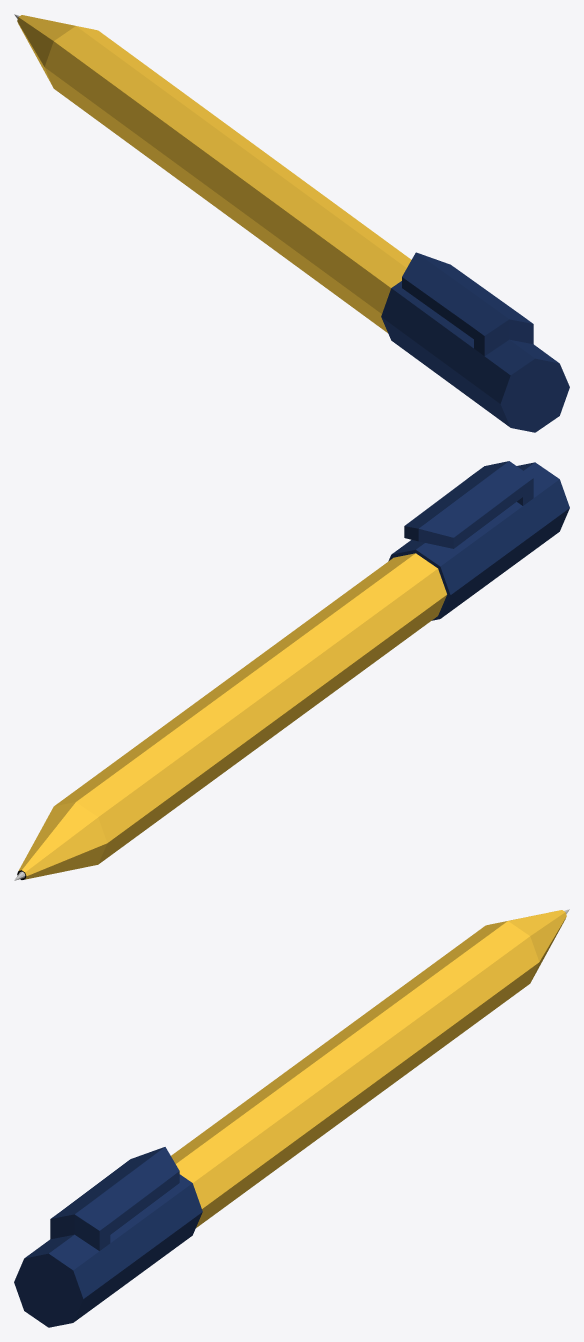
The model's file is SM_Pen_001.fbx.
3 renders of one model, top to bottom at view 1: azimuth 30°, elevation 25°; view 2: azimuth 150°, elevation 25°; view 3: azimuth 330°, elevation 25°, orthographic.
Parts seen in each view (by area): view 1: Pen; view 2: Pen; view 3: Pen.
Part boxes in pixels (x1,y1,x2,y2): Pen: (14, 14, 569, 432); Pen: (14, 461, 569, 880); Pen: (14, 909, 569, 1327).
Bounding box in the file's own units: 1 × 1.3 × 13.
